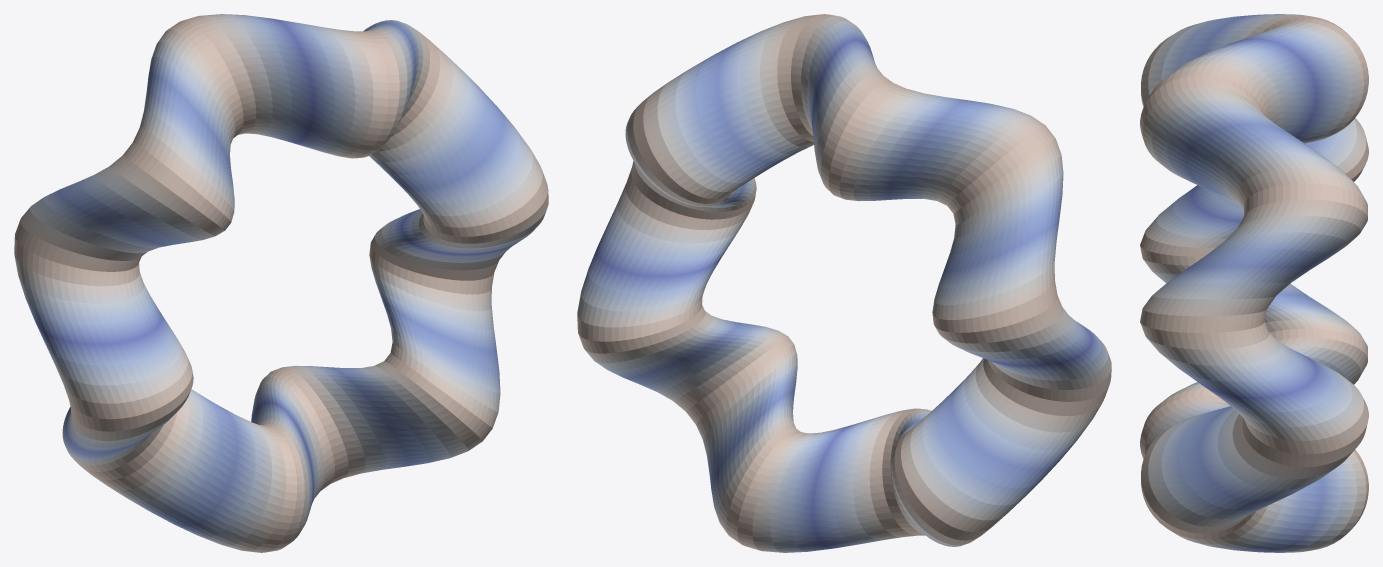
Rendered from step_12.glb.
3 renders of one model, left to right at view 1: azimuth 30°, elevation 25°; view 2: azimuth 150°, elevation 25°; view 3: azimuth 270°, elevation 25°, orthographic. The views are drawn at different scales.
Visible parts, largest first — view 1: world; view 2: world; view 3: world.
Boxes of the visible parts, x1,y1,x2,y2 form: world: (14,14,548,552); world: (577,14,1111,552); world: (1140,14,1368,552).
Bounding box in the file's own units: 26 × 26 × 11.03.
